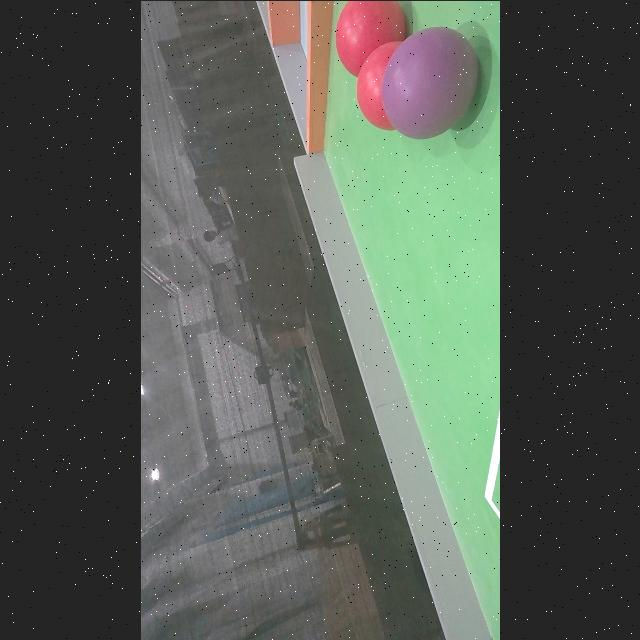P: (382, 26, 478, 138)
R: (336, 1, 410, 74), (356, 40, 402, 130)
